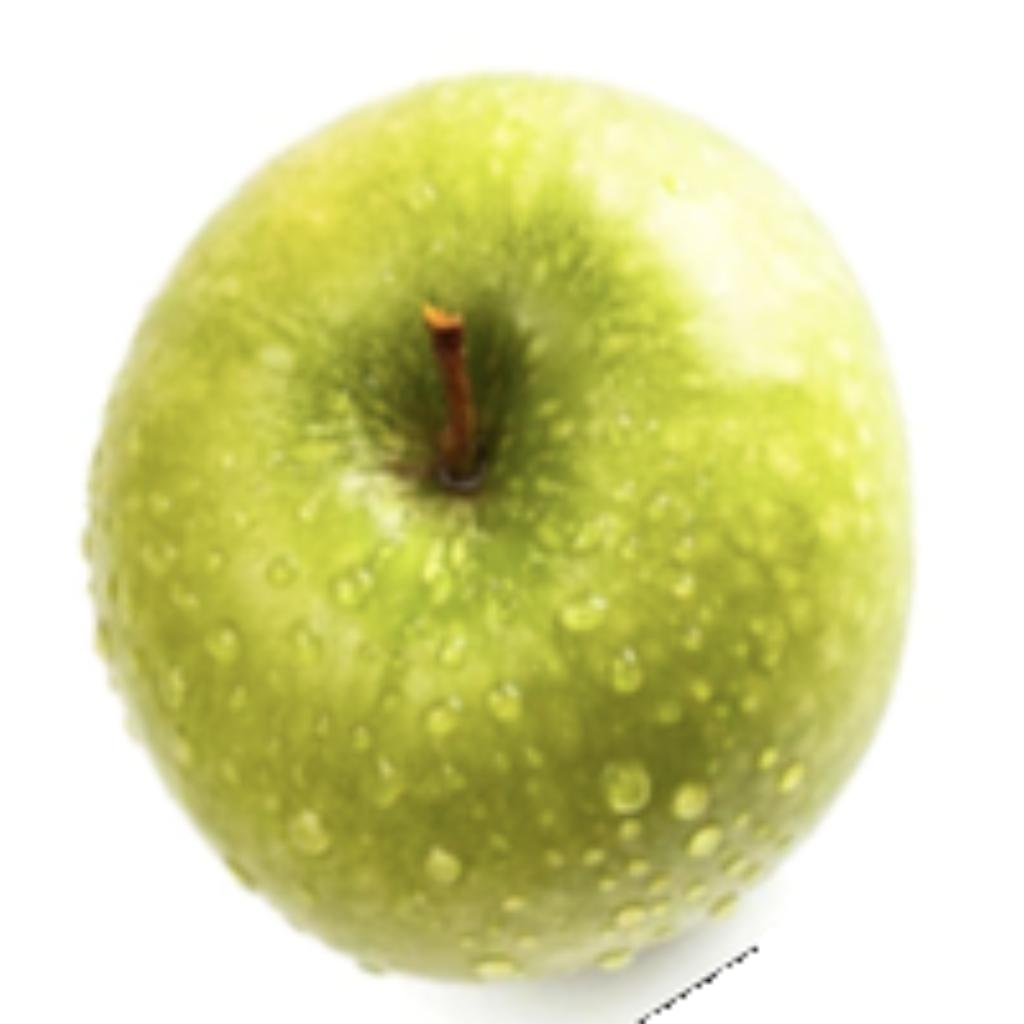apple: (72, 61, 916, 1019)
